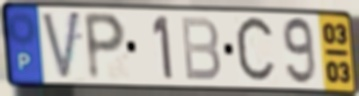1: (150, 14, 177, 83)
9: (283, 15, 319, 88)
B: (178, 15, 223, 83)
C: (233, 13, 278, 88)
P: (82, 10, 128, 84)
V: (39, 9, 83, 84)
